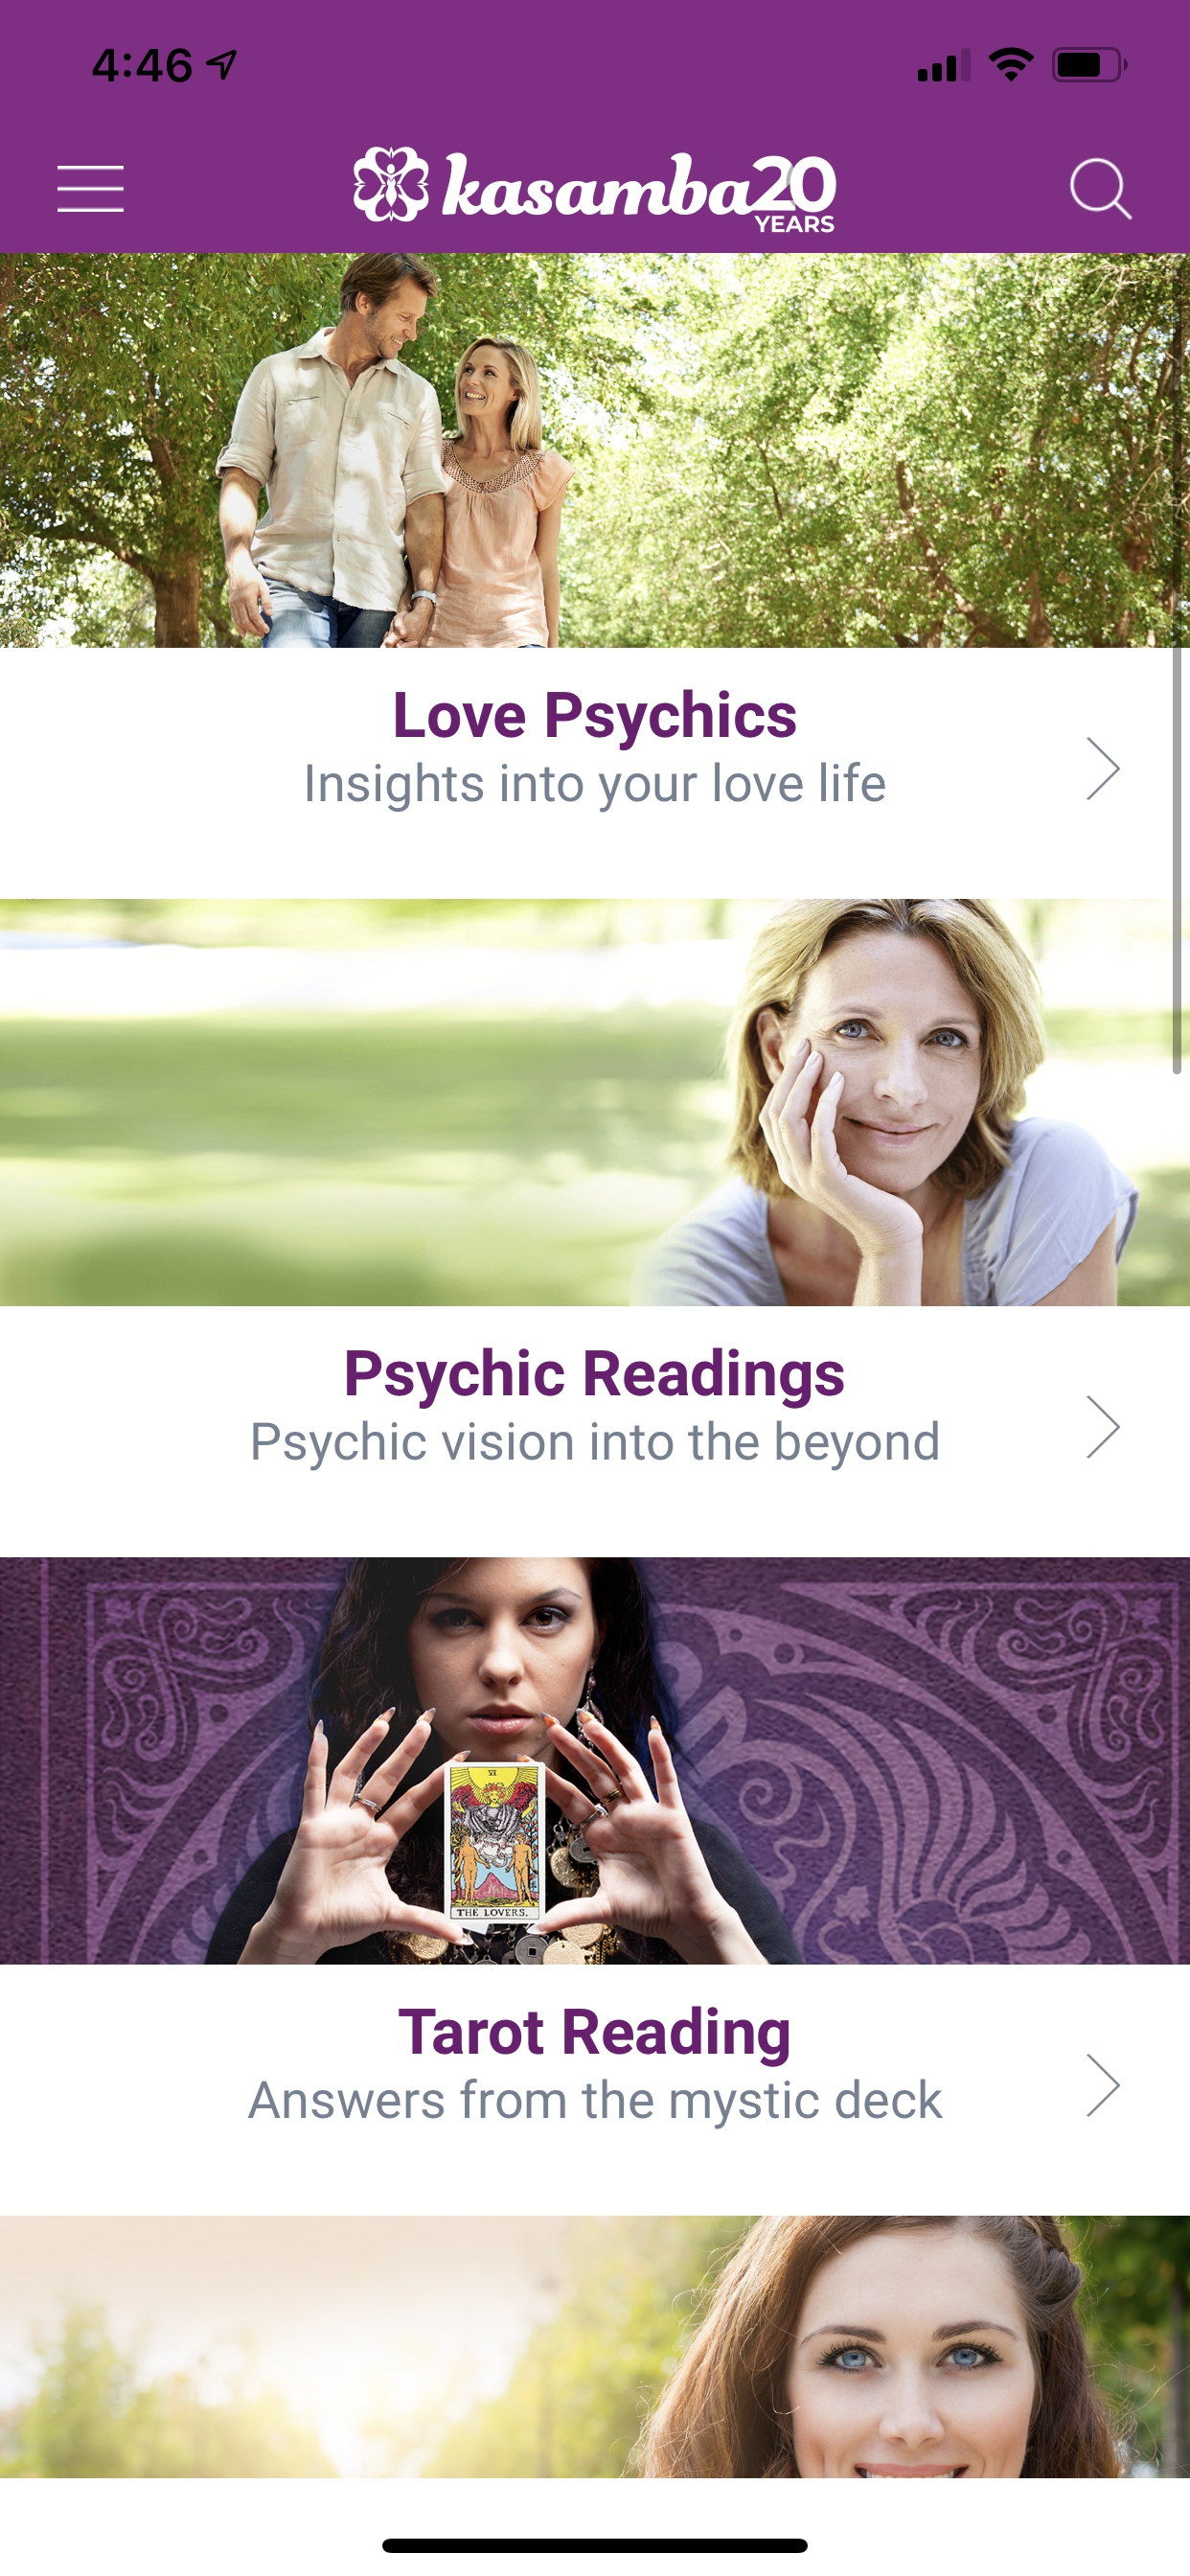Icon: (1068, 158, 1132, 222), (58, 164, 125, 214), (1085, 2054, 1119, 2118), (1085, 1395, 1119, 1459), (1085, 738, 1119, 800)
Image: (2, 1557, 1188, 1965), (2, 899, 1188, 1306), (2, 255, 1188, 649), (2, 2216, 1190, 2477), (353, 146, 837, 233)
Text: (248, 2078, 943, 2129), (253, 1419, 939, 1470), (347, 1347, 845, 1410), (307, 762, 886, 813), (396, 688, 796, 751), (399, 2006, 789, 2067)
UpperTaskBar: (94, 48, 1128, 84)
